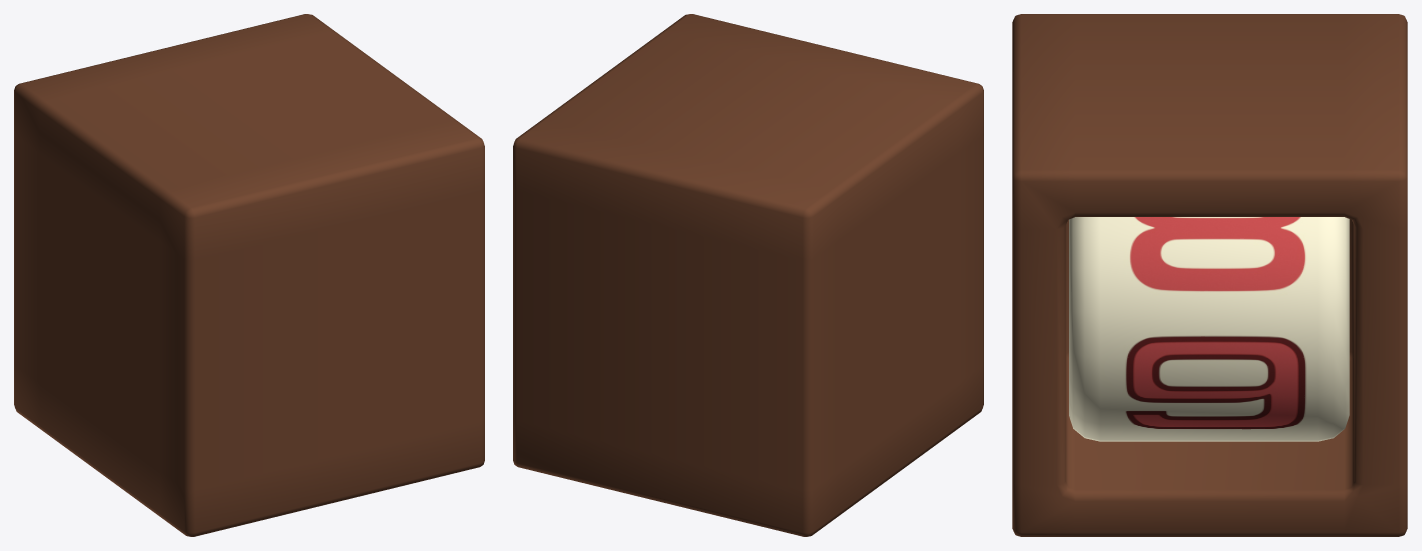
File: barabanBIG.fbx
3 views of the same model, side by side, from view 1: azimuth 30°, elevation 25°; view 2: azimuth 150°, elevation 25°; view 3: azimuth 270°, elevation 25° (orthographic). The views are drawn at different scales.
Parts seen in each view (by area): view 1: korobka big baraban; view 2: korobka big baraban; view 3: korobka big baraban, big baraban.
Part boxes in pixels (left/top/right/bottom): korobka big baraban: left=14, top=14, right=484, bottom=536; korobka big baraban: left=513, top=14, right=983, bottom=536; korobka big baraban: left=1012, top=14, right=1407, bottom=536; big baraban: left=1069, top=217, right=1349, bottom=441.
Size of the model in its own units: 131 by 137 by 133.
Materials: 2 (1 with a texture image).
